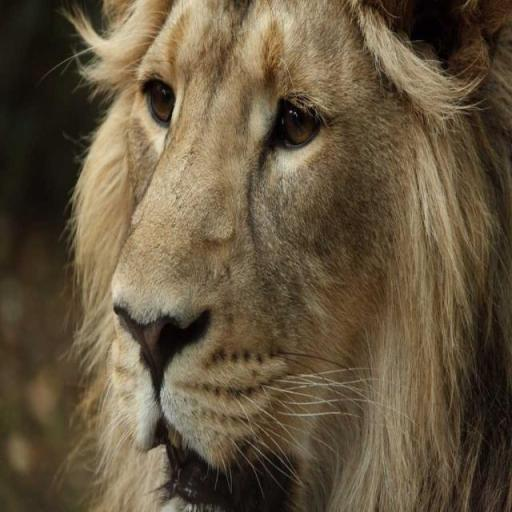Lion: (44, 0, 510, 510)
